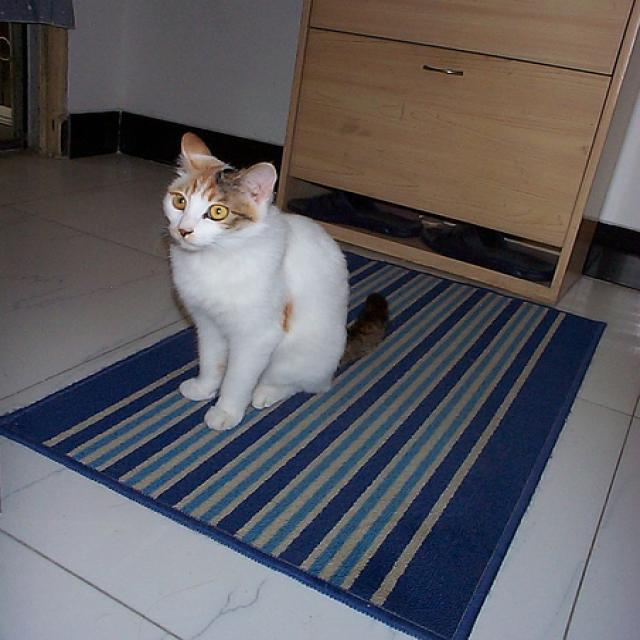cat: (161, 132, 389, 433)
